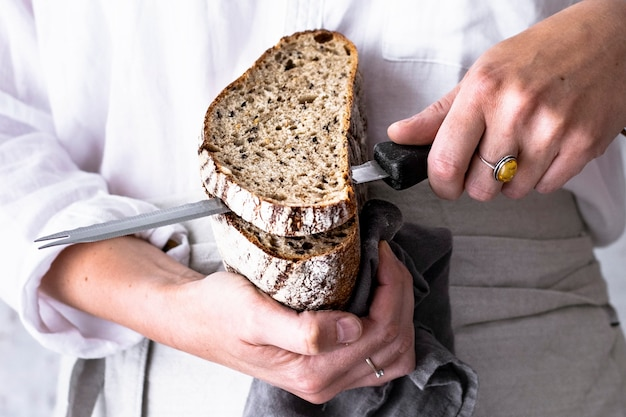knife: (31, 136, 434, 254)
